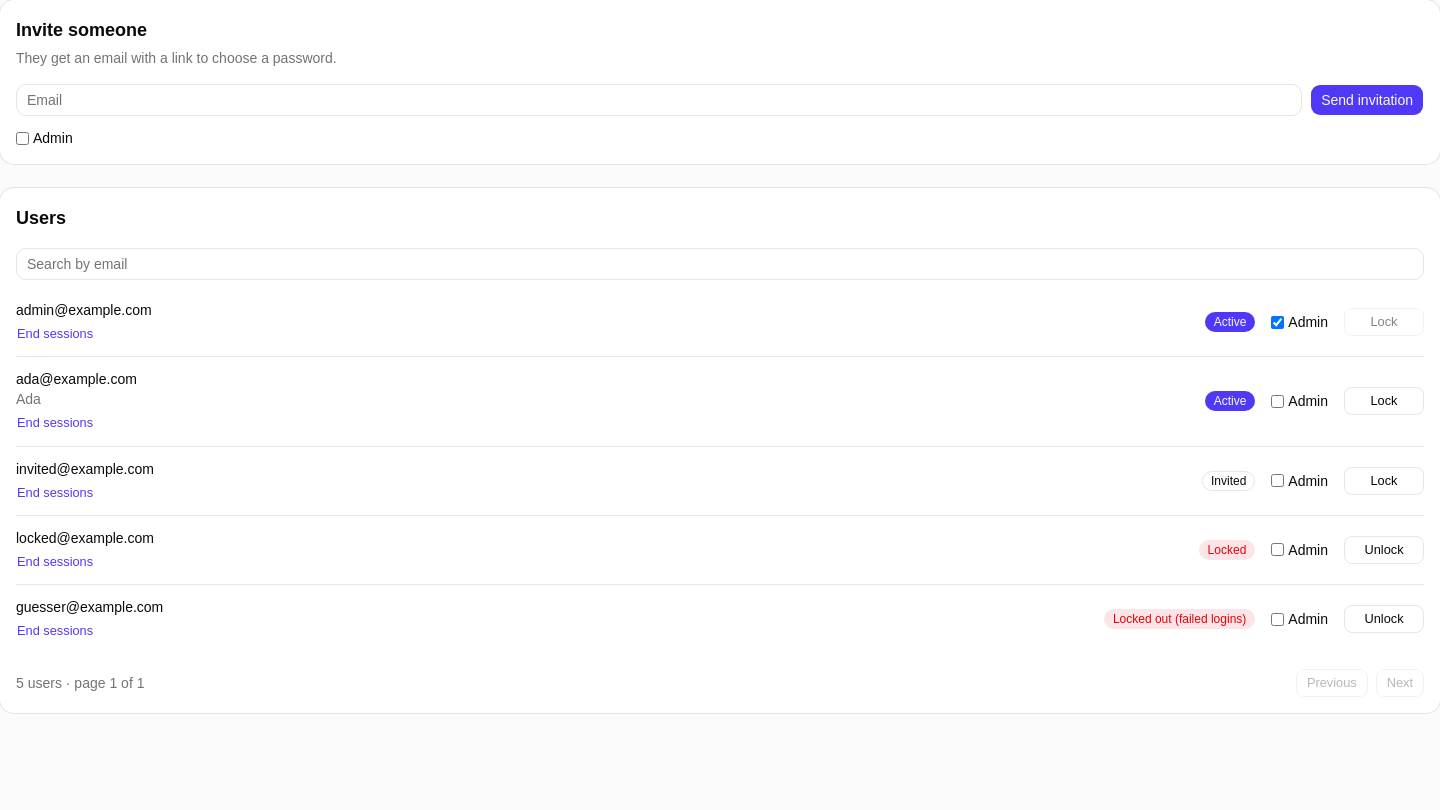
Scenario: AdminPage › shows why an invitation was refused
The width and height of the screenshot is (1440, 810).
Type "ada@example.com" into the field with placeholder "Email" at (659, 100), box [16,84,1302,116]
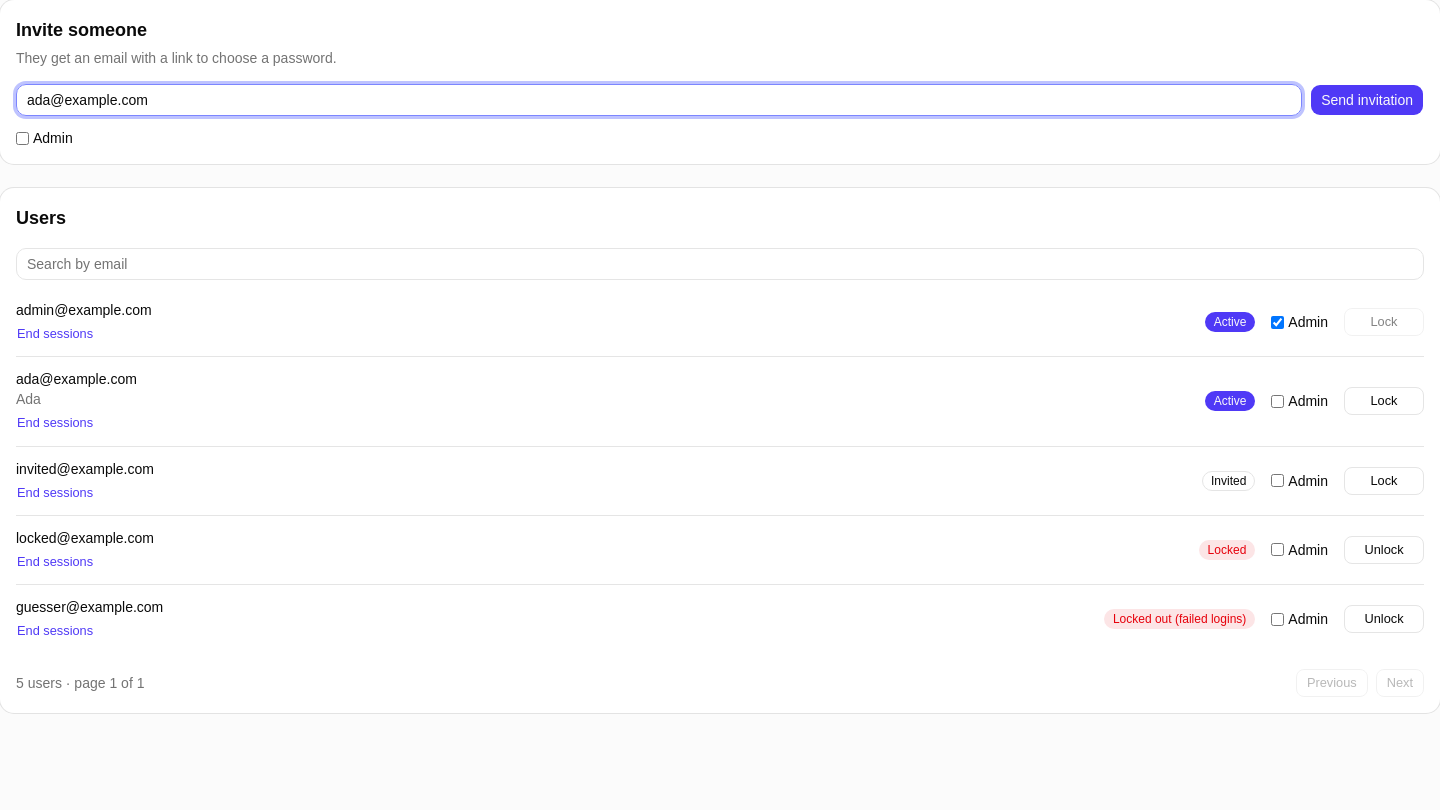
Click the button "Send invitation" at (1367, 100), box [1310,84,1424,116]
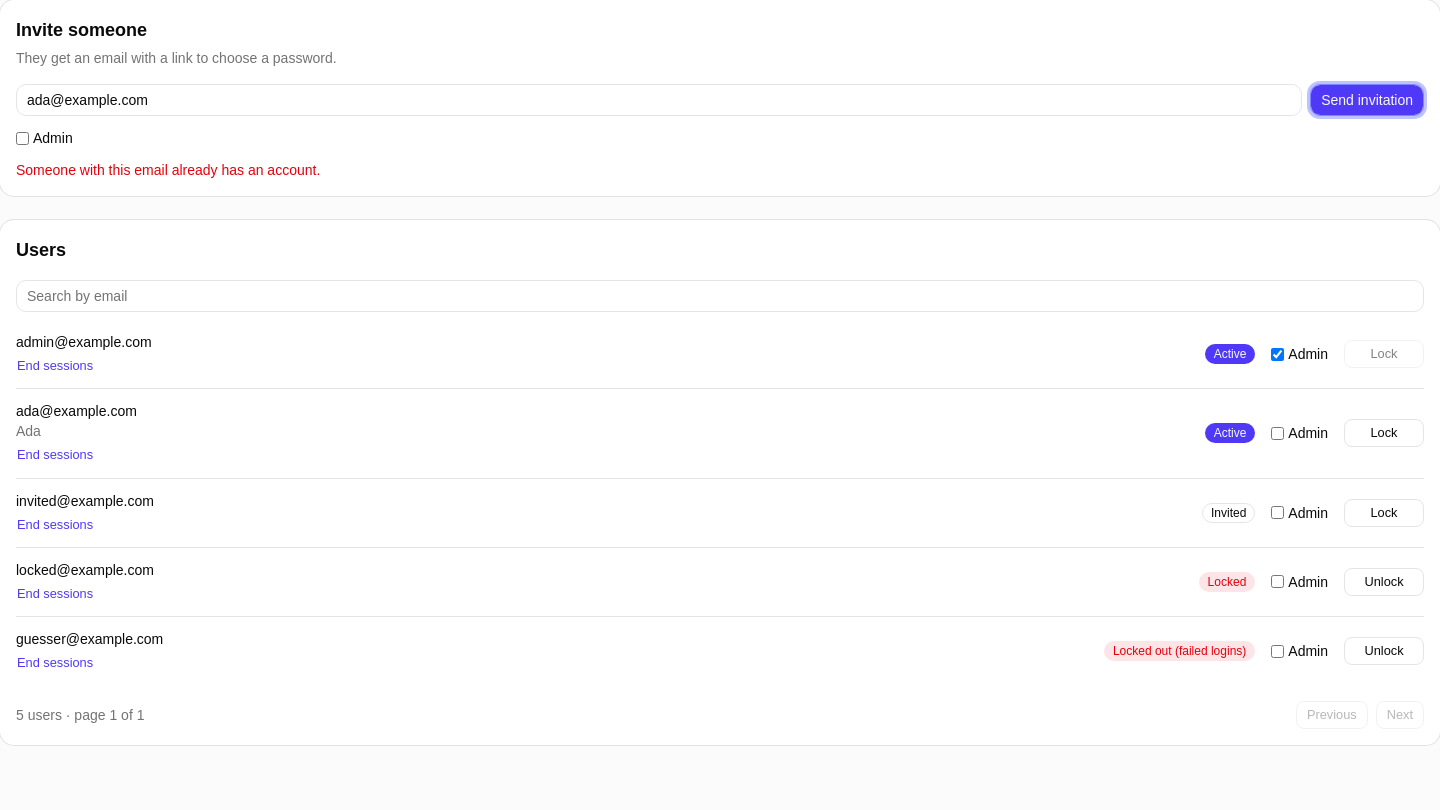
Check: the text "Someone with this email already has an account." is shown, box [16,162,320,178]
